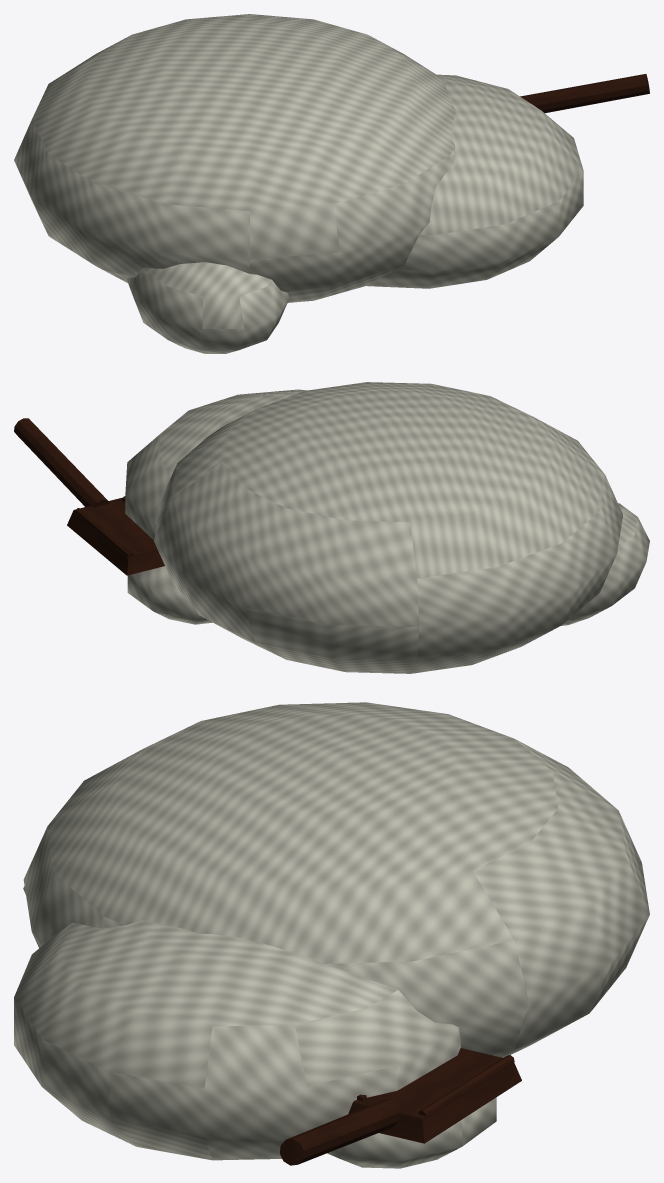
The model's file is salt_pile.glb.
3 views of the same model, one above another, from view 1: azimuth 30°, elevation 25°; view 2: azimuth 150°, elevation 25°; view 3: azimuth 270°, elevation 25° (orthographic). The views are drawn at different scales.
Visible parts, largest first — view 1: SaltMound, Scoop; view 2: SaltMound, Scoop; view 3: SaltMound, Scoop.
Boxes of the visible parts, x1,y1,x2,y2 form: SaltMound: (14,14,583,353); Scoop: (520,74,649,113); SaltMound: (125,382,649,673); Scoop: (14,418,164,575); SaltMound: (14,702,649,1168); Scoop: (280,1048,521,1165).
Bounding box in the file's own units: 1.38 × 0.48 × 0.9664.
Materials: 2 (2 with a texture image).
